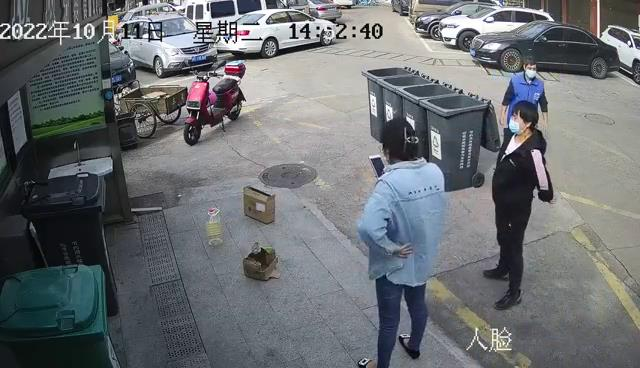person: (479, 55, 560, 315)
suliaozhipin: (202, 205, 227, 250)
worker: (352, 113, 451, 368)
zhizhipin: (239, 240, 284, 284), (237, 181, 278, 226)
